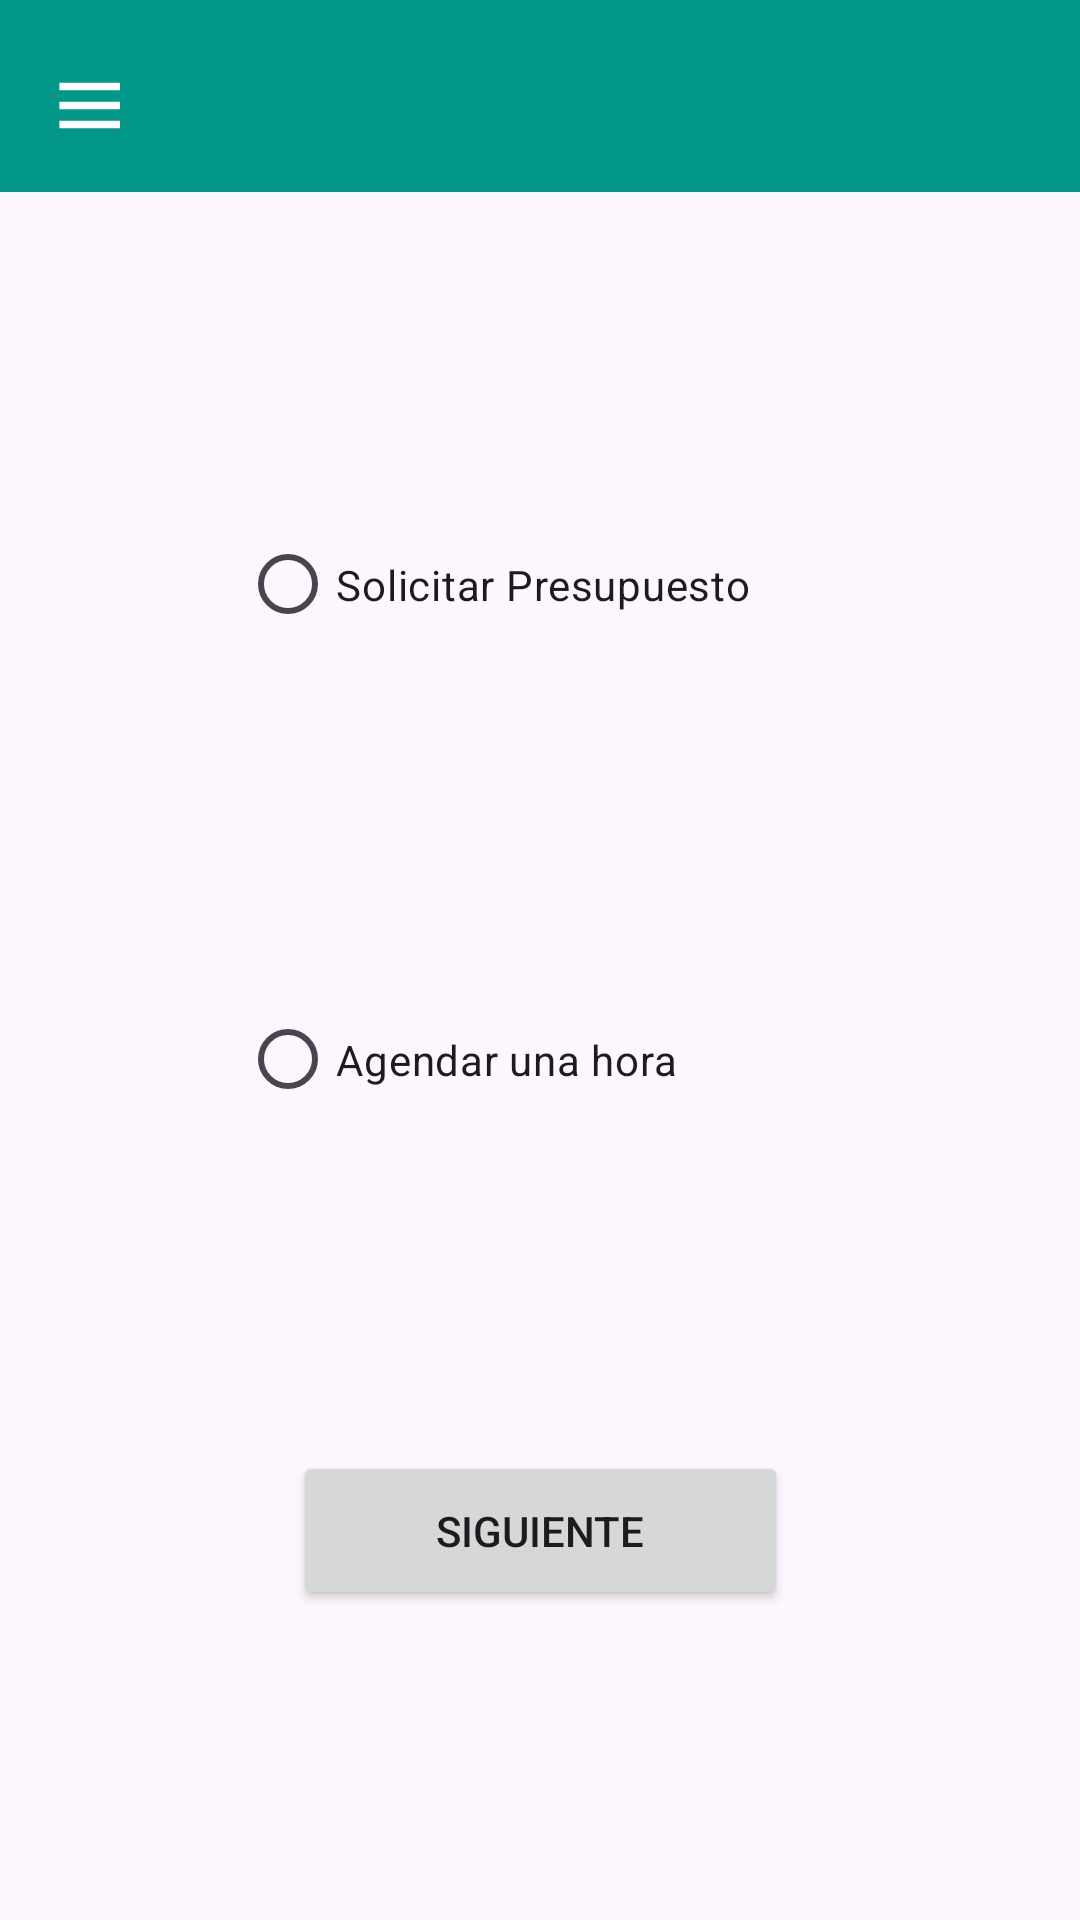

Icons on this 1080×1920 Android screen, each with the point to tap as (x,y):
menu: (89,105)
